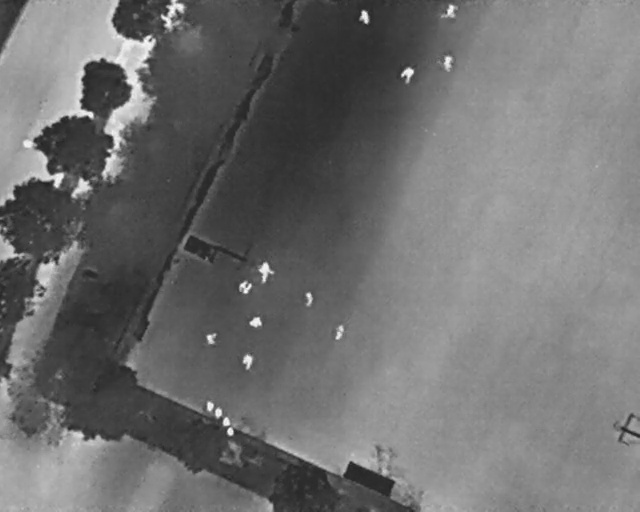Person: (252, 258, 276, 286), (397, 62, 417, 87), (235, 276, 255, 297), (441, 1, 459, 20), (238, 352, 255, 372), (332, 323, 347, 343), (358, 9, 370, 26), (442, 54, 453, 72), (248, 316, 263, 329), (205, 331, 217, 346), (305, 289, 313, 309)
